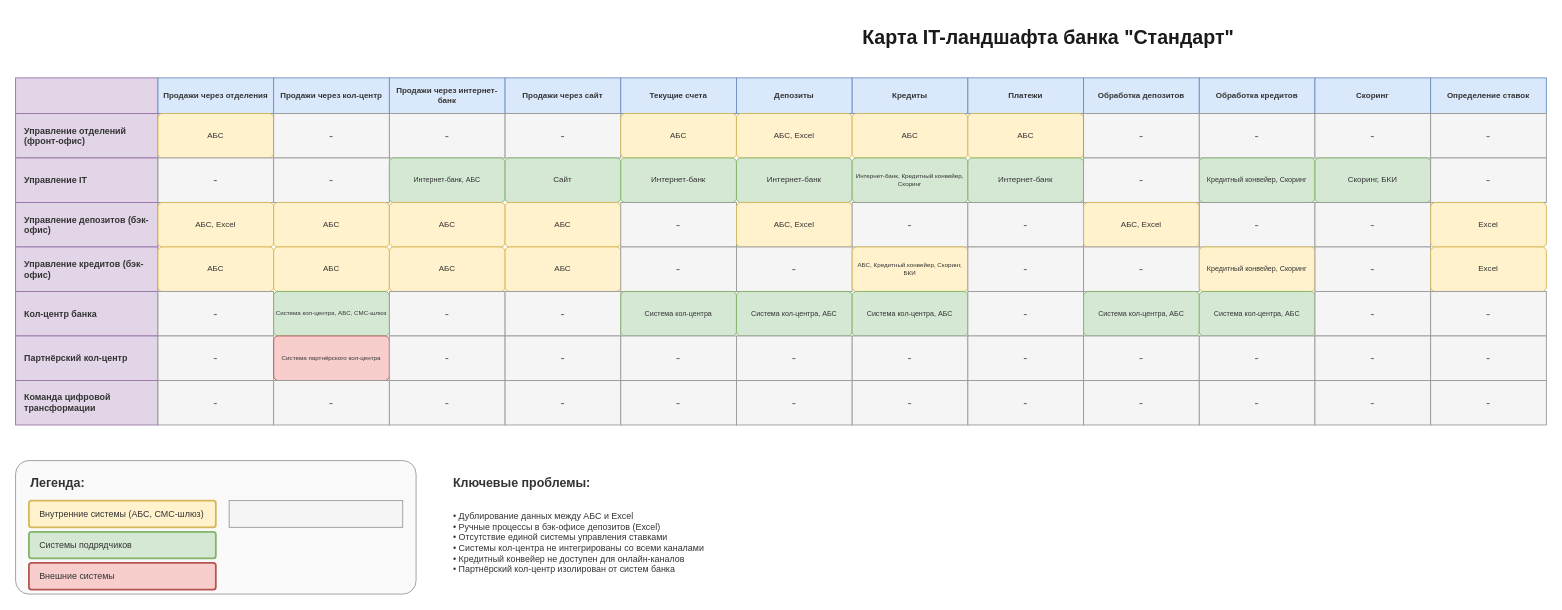
Some shapes in this 1562 by 610 pixel diagram are drawn without their labels. The shapes that lost their labels are listed below. From the top down, each one's centre as x and y in pixels, then its label:
At (x=86, y=95): "Подразделение".
At (x=315, y=513): "Не используется / Ручные процессы".
